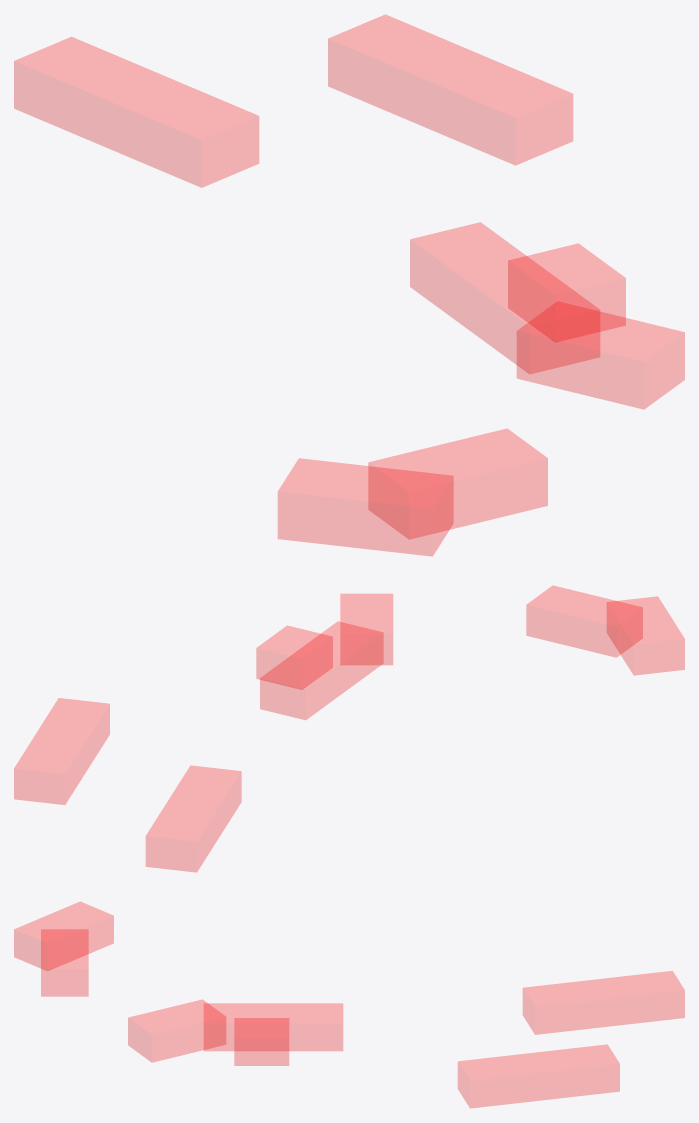
The model's file is s03a_td1-obstacles.glb.
3 renders of one model, top to bottom at view 1: azimuth 30°, elevation 25°; view 2: azimuth 150°, elevation 25°; view 3: azimuth 270°, elevation 25°, orthographic. The views are drawn at different scales.
Parts seen in each view (by area): view 1: boulder-colonly (×7); view 2: boulder-colonly (×7); view 3: boulder-colonly (×7).
Boxes of the visible parts, bbox=[...] form: boulder-colonly (×7): bbox=[14, 14, 684, 556]; boulder-colonly (×7): bbox=[14, 586, 684, 872]; boulder-colonly (×7): bbox=[14, 901, 684, 1108].
Size of the model in its own units: 27.63 by 2 by 43.68.
